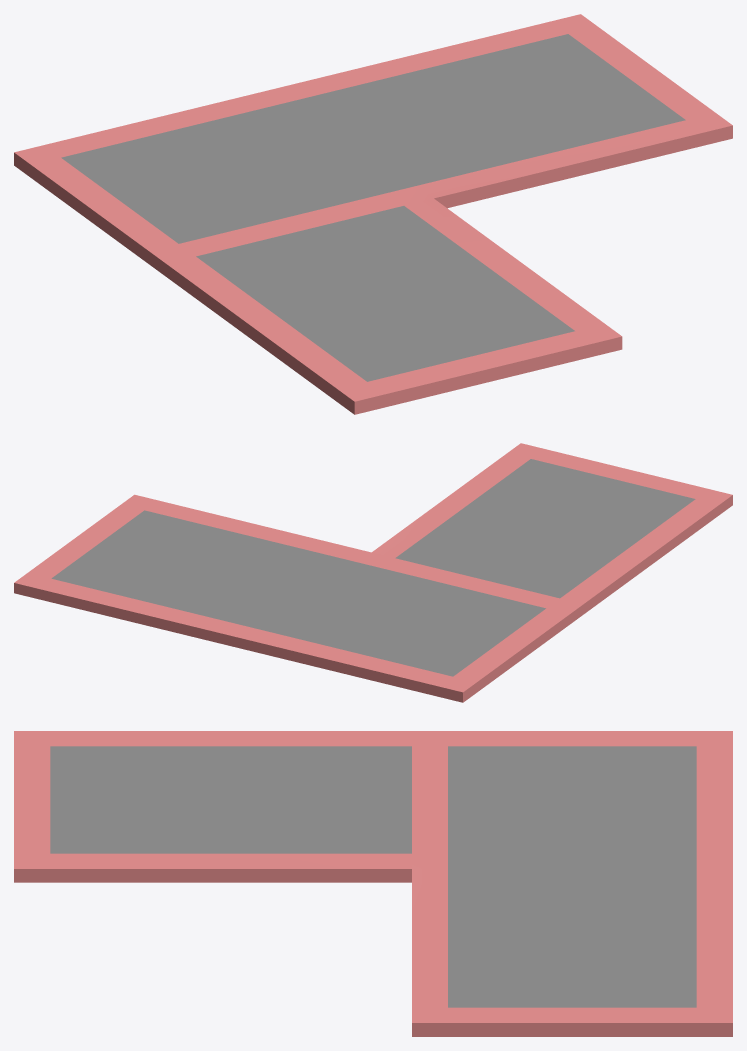
The model's file is S_Envi_FZFBase_Roof_02h.gltf.
3 renders of one model, top to bottom at view 1: azimuth 30°, elevation 25°; view 2: azimuth 150°, elevation 25°; view 3: azimuth 270°, elevation 25°, orthographic. The views are drawn at different scales.
Visible parts, largest first — view 1: S_Envi_FZFBase_Roof_02h; view 2: S_Envi_FZFBase_Roof_02h; view 3: S_Envi_FZFBase_Roof_02h.
Boxes of the visible parts, bbox=[...] form: S_Envi_FZFBase_Roof_02h: bbox=[14, 14, 732, 414]; S_Envi_FZFBase_Roof_02h: bbox=[14, 443, 732, 702]; S_Envi_FZFBase_Roof_02h: bbox=[14, 731, 732, 1036].
Bounding box in the file's own units: 9.52 × 0.2107 × 9.91.
